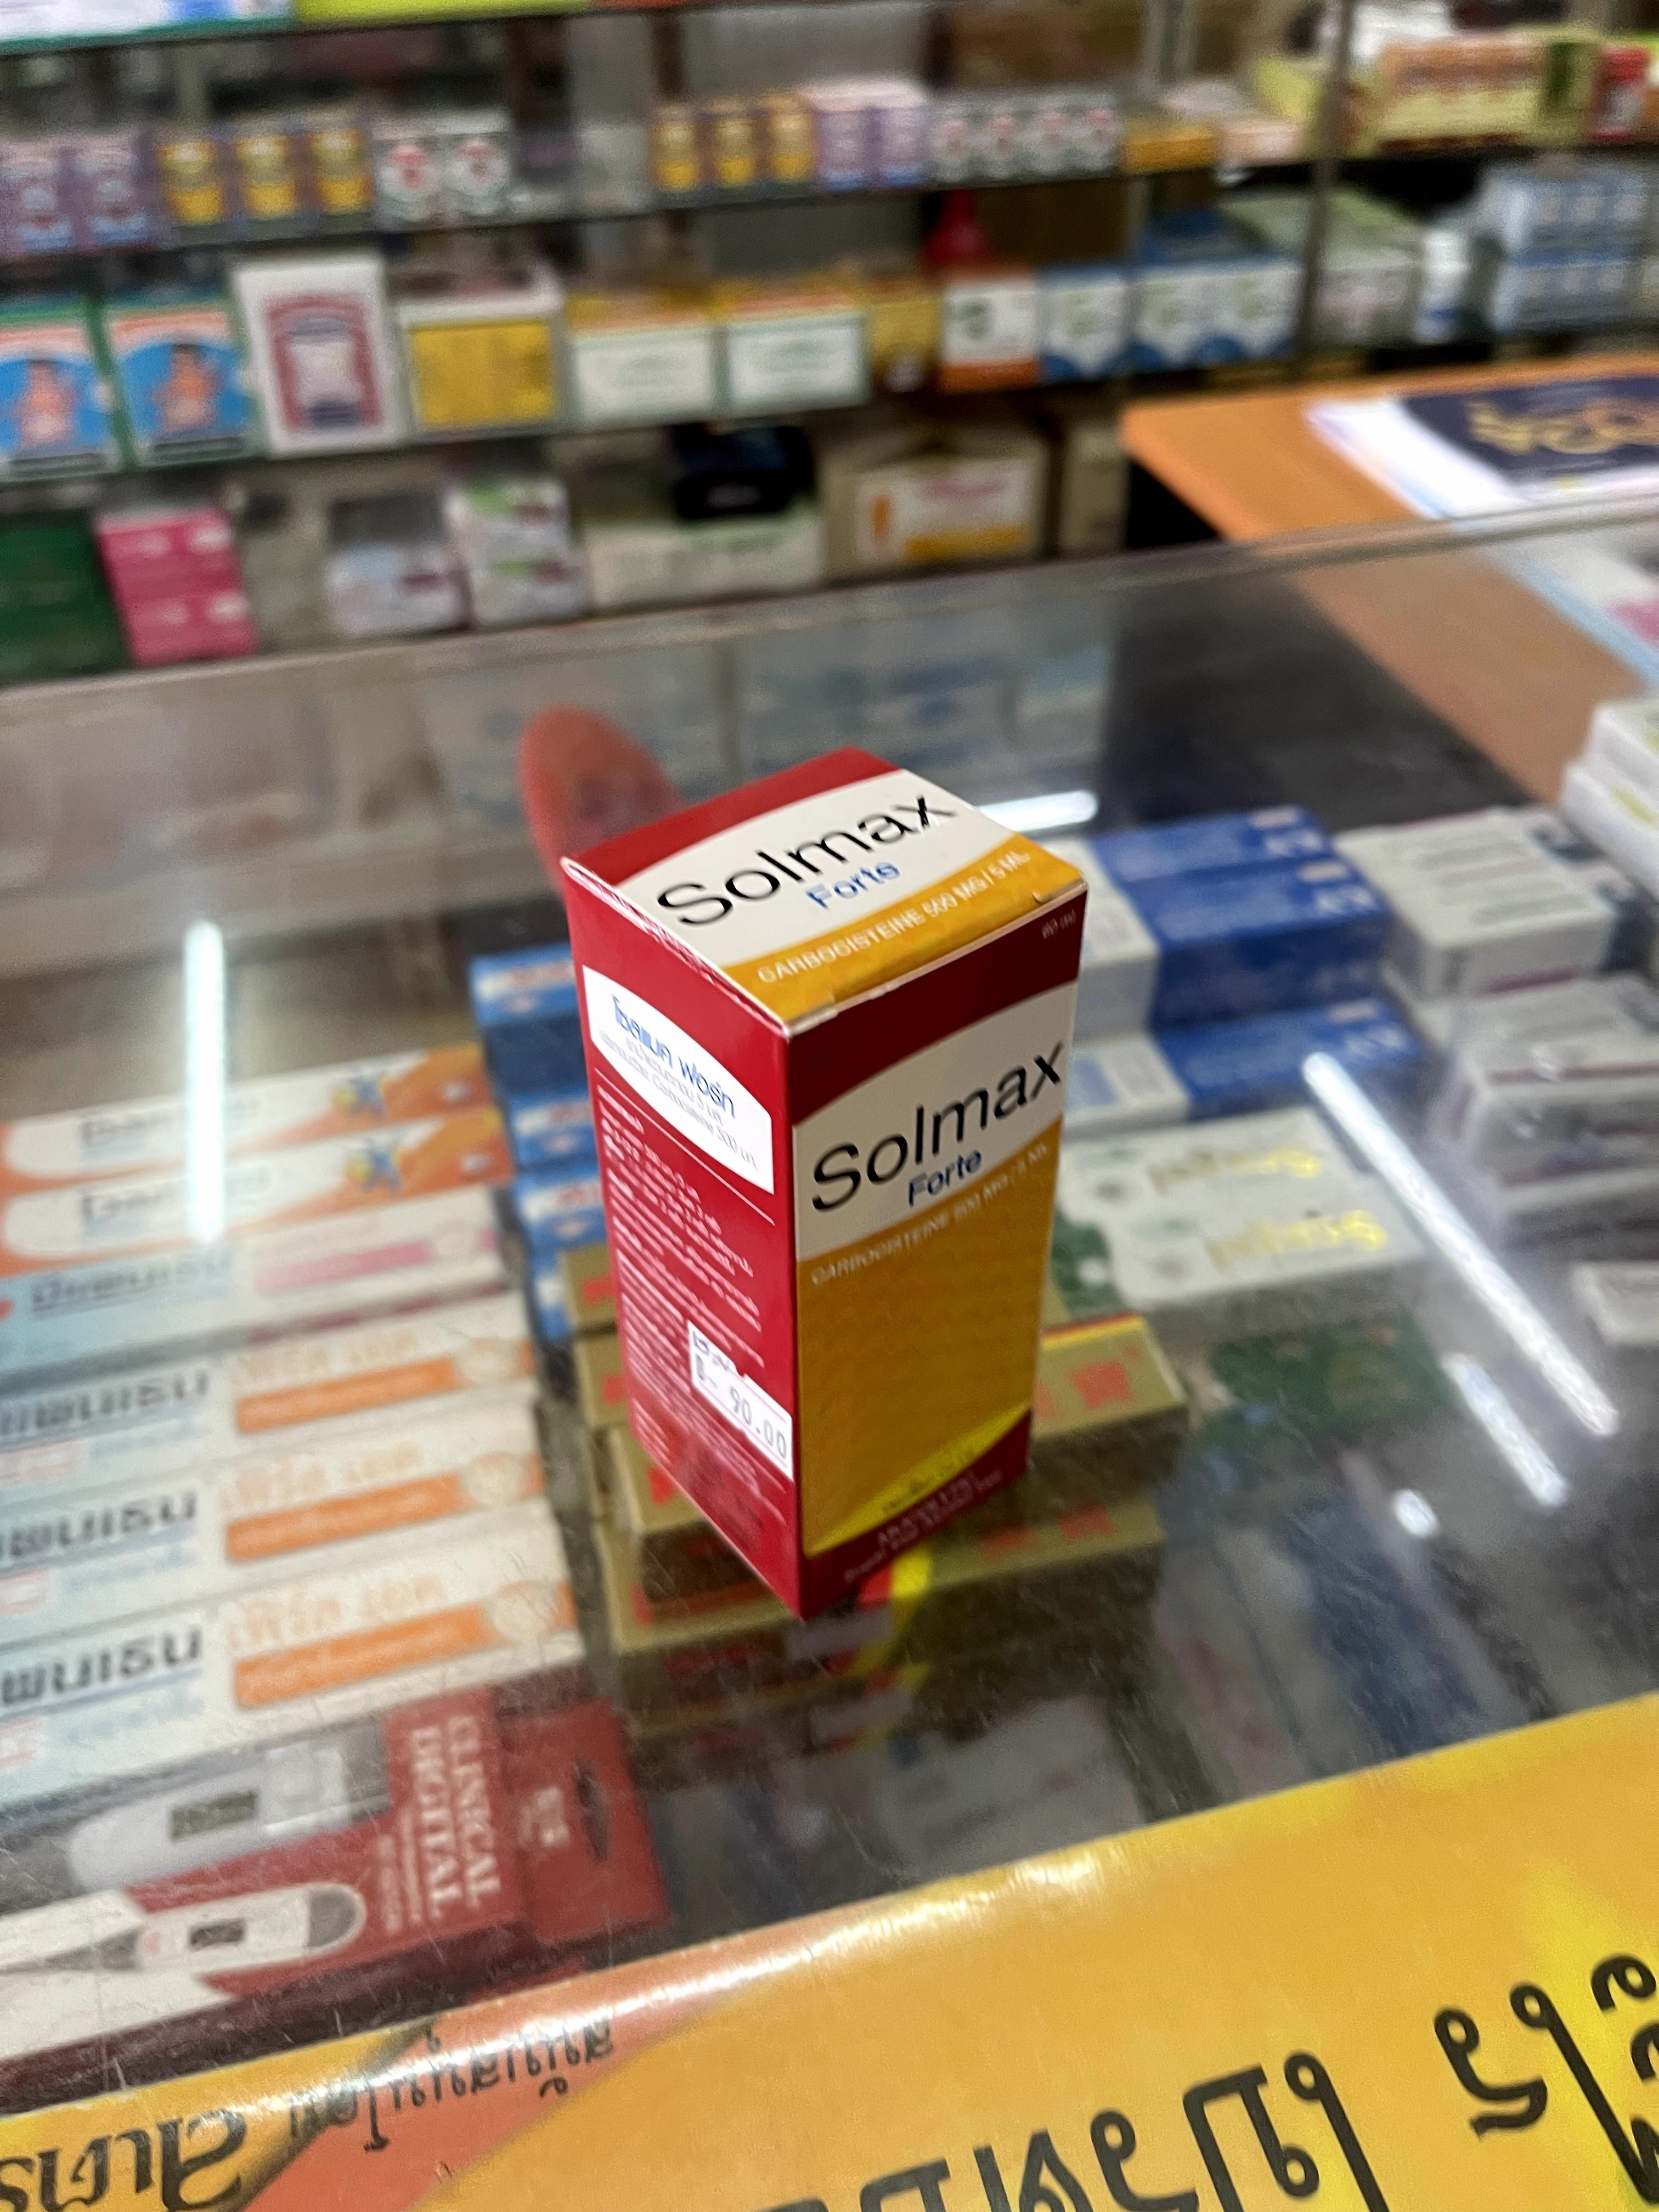Solmax: (568, 749, 1091, 1608)
